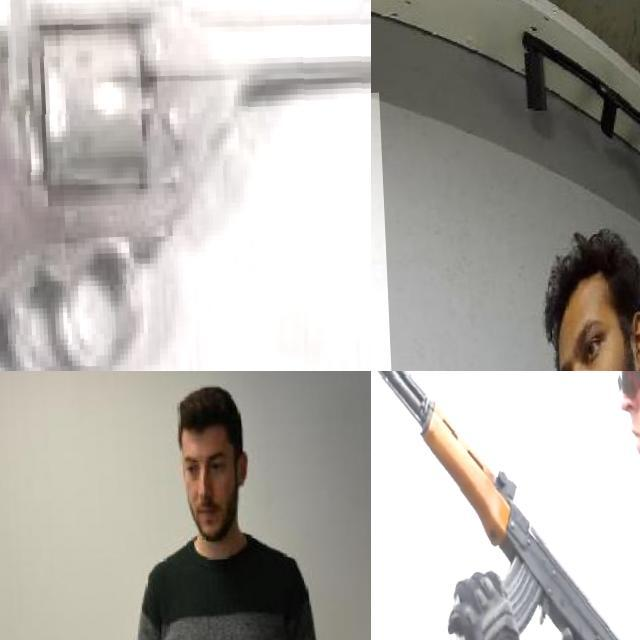-: (371, 95, 460, 371)
gun-knife-thesis - v11 Yolov5 augmented: (0, 0, 371, 371), (371, 371, 640, 640)
